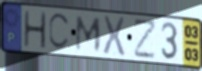3: (160, 21, 180, 62)
C: (47, 12, 72, 52)
H: (22, 9, 48, 51)
M: (74, 14, 103, 53)
X: (102, 14, 127, 58)
Z: (133, 19, 158, 61)
